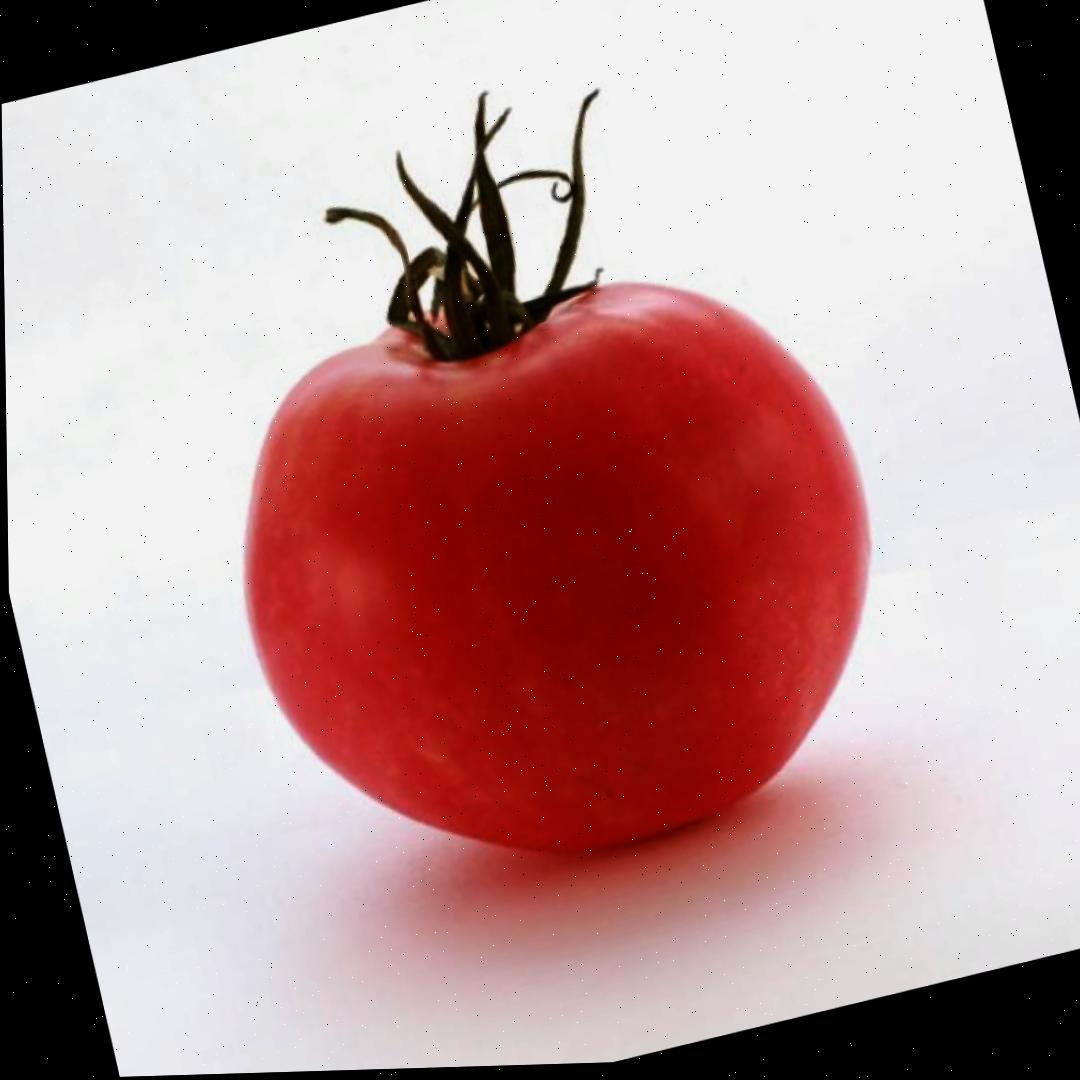matang: (139, 18, 930, 928)
